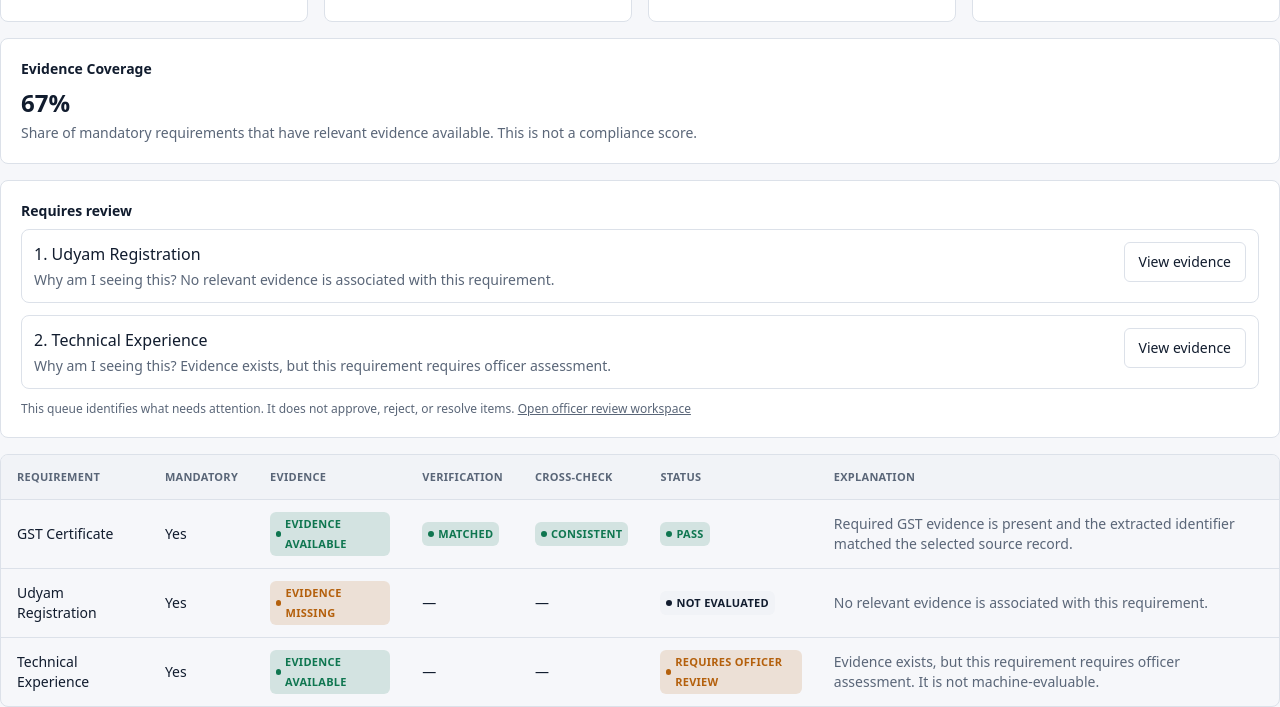
BidRequirementsPanel › flags technical experience as officer review required
The image size is (1280, 707).
(page scrolled)
Click the text "Technical Experience" at (75, 672), box [1, 638, 149, 706]
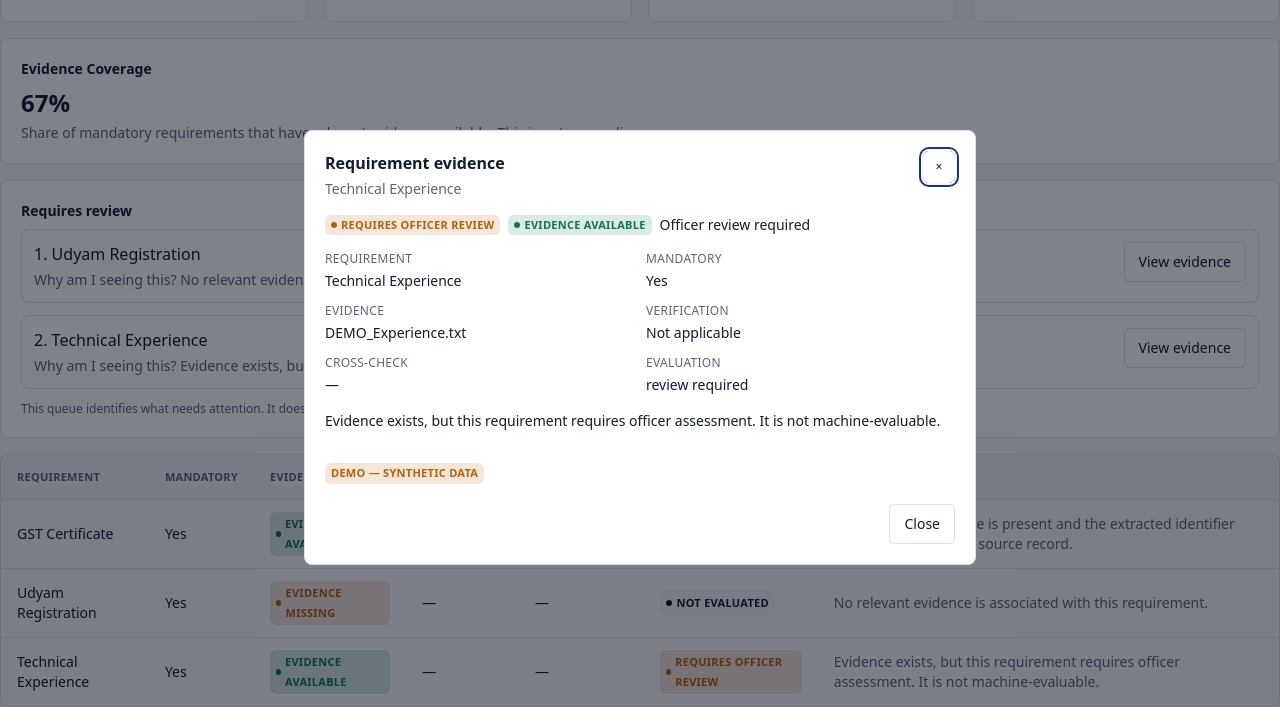
Expected: the text "requires officer assessment" is shown, [180, 356, 611, 375]
Expected: the text "Officer review required" is shown, [660, 215, 810, 235]
